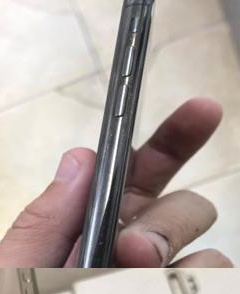scratch: (87, 79, 147, 146), (74, 233, 119, 268)
